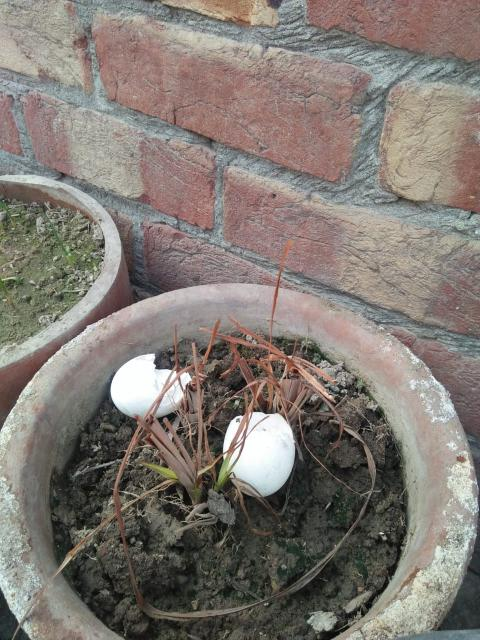Roto: (222, 410, 296, 498), (109, 352, 192, 420)
